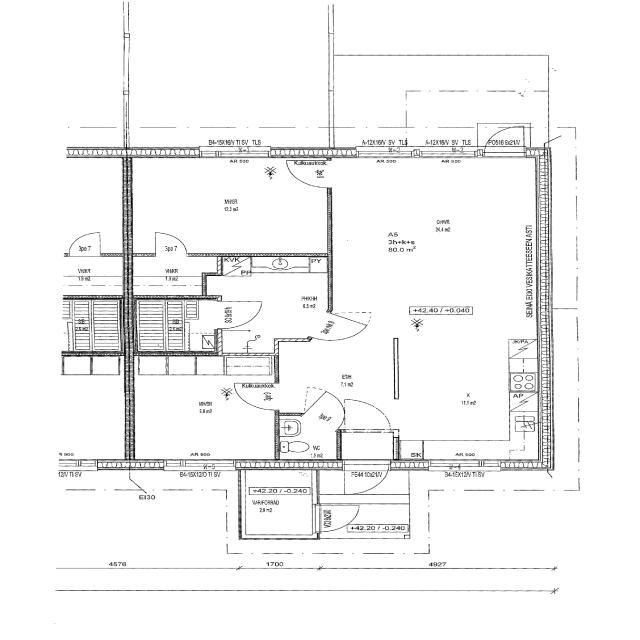door: (301, 391, 359, 431), (309, 312, 366, 349), (344, 460, 389, 500), (482, 120, 524, 157), (312, 505, 358, 532), (234, 383, 279, 410), (288, 160, 332, 187), (217, 301, 261, 328), (155, 233, 186, 256)
